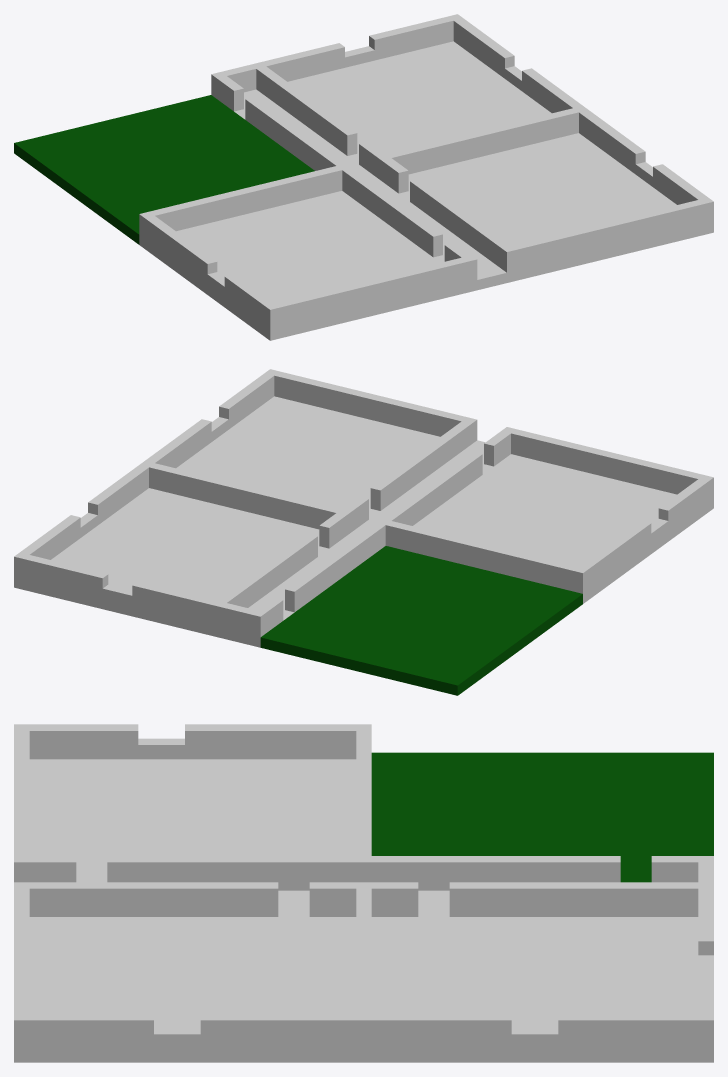
Rendered from HouseDae.dae.
3 views of the same model, one above another, from view 1: azimuth 30°, elevation 25°; view 2: azimuth 150°, elevation 25°; view 3: azimuth 270°, elevation 25° (orthographic). The views are drawn at different scales.
Parts seen in each view (by area): view 1: PlaneCOL; view 2: PlaneCOL; view 3: PlaneCOL.
Part boxes in pixels (x1,y1,x2,y2): PlaneCOL: (14, 14, 713, 340); PlaneCOL: (14, 369, 713, 695); PlaneCOL: (14, 724, 713, 1062).
Bounding box in the file's own units: 4.5 × 4.5 × 0.3.
